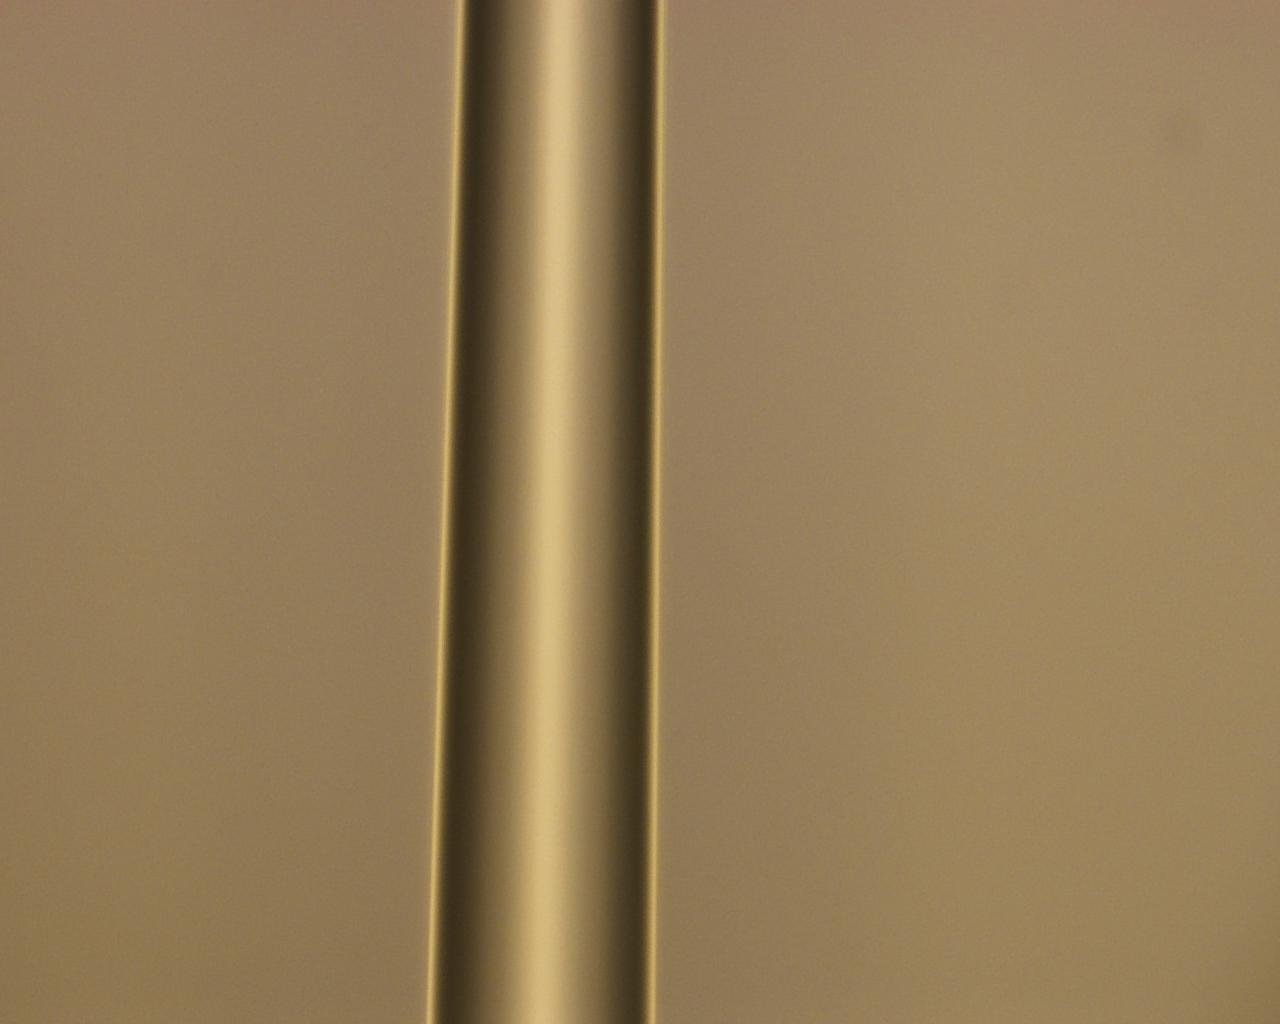fiber: (502, 419, 1096, 1024), (396, 0, 1195, 294), (0, 419, 396, 848)
